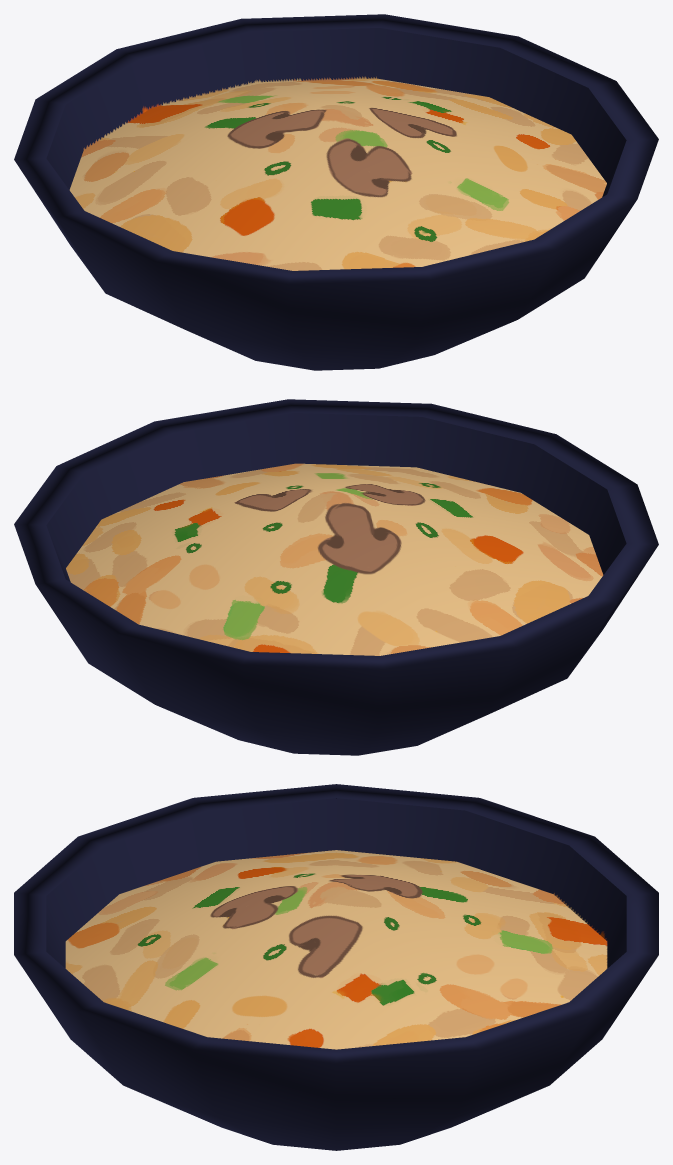
The model's file is mushroom_rissotto.fbx.
3 renders of one model, top to bottom at view 1: azimuth 30°, elevation 25°; view 2: azimuth 150°, elevation 25°; view 3: azimuth 270°, elevation 25°, orthographic. The views are drawn at different scales.
Visible parts, largest first — view 1: mushroom rissoto; view 2: mushroom rissoto; view 3: mushroom rissoto.
Boxes of the visible parts, bbox=[...] form: mushroom rissoto: bbox=[14, 14, 658, 370]; mushroom rissoto: bbox=[14, 399, 658, 755]; mushroom rissoto: bbox=[14, 784, 658, 1150].
Bounding box in the file's own units: 42.76 × 14.6 × 41.69.
Materials: 1 (1 with a texture image).
